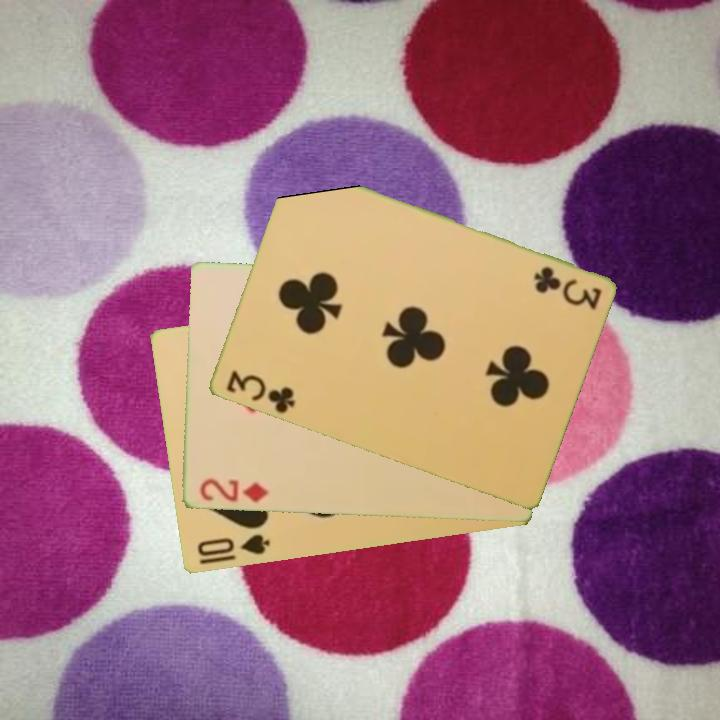10s: (193, 531, 273, 568)
2d: (196, 476, 271, 506)
3c: (222, 366, 298, 417), (529, 263, 604, 312)
